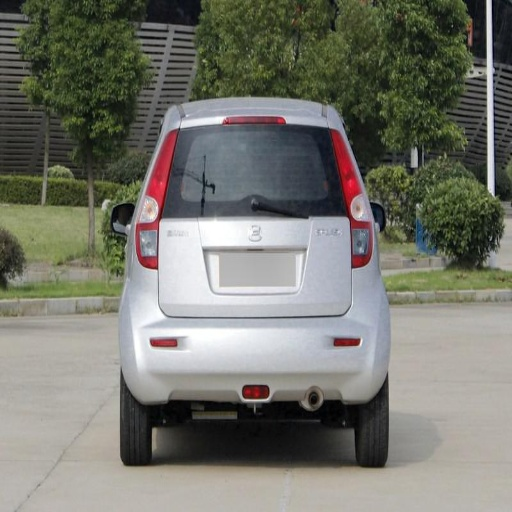back_bumper: (122, 264, 390, 415)
tailgate: (212, 230, 348, 313)
trunk: (139, 190, 348, 317)
